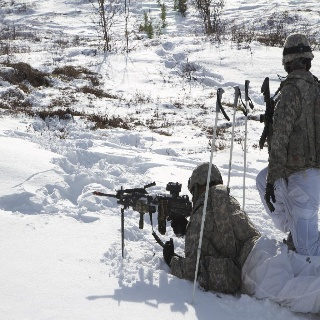rifle: (93, 181, 192, 257), (254, 76, 275, 154)
